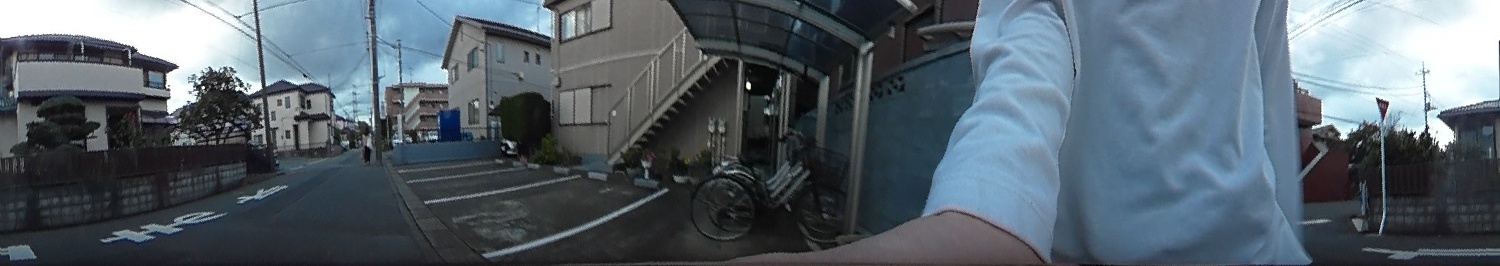difficult_person: (360, 123, 374, 160)
